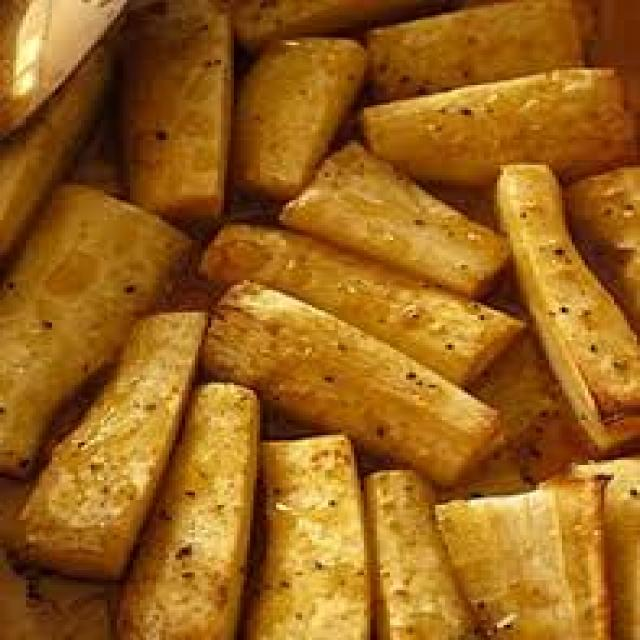organic waste: (204, 275, 506, 483), (192, 217, 523, 385), (0, 175, 185, 470), (13, 308, 211, 578), (491, 160, 636, 452), (111, 375, 263, 637), (354, 65, 637, 190), (273, 138, 503, 290), (429, 475, 624, 637), (464, 272, 584, 502), (244, 428, 370, 638), (110, 0, 230, 218), (0, 33, 107, 275), (360, 0, 597, 92), (358, 460, 478, 638), (231, 38, 367, 192), (0, 470, 110, 637), (0, 0, 120, 138), (562, 455, 637, 637), (562, 158, 637, 330), (231, 0, 497, 38)
